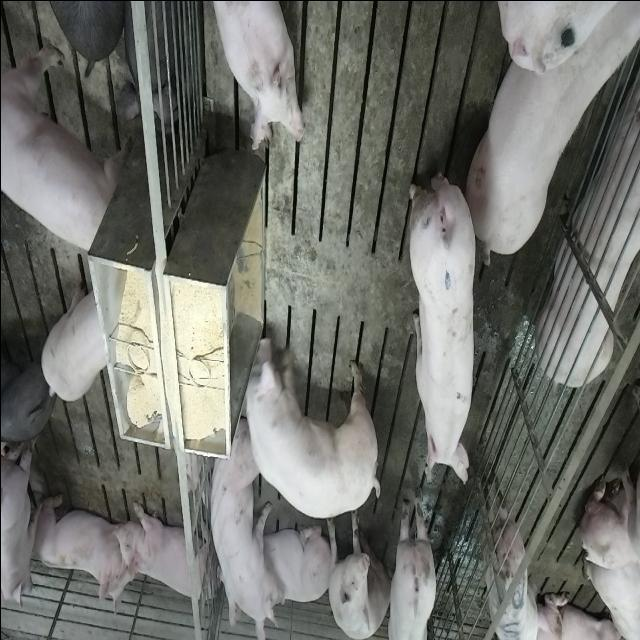Sitting: (203, 422, 280, 640), (324, 518, 389, 640)
Standing: (2, 34, 122, 256), (240, 334, 380, 522), (407, 161, 478, 485), (478, 479, 542, 638), (40, 280, 109, 403), (385, 483, 438, 638), (0, 322, 52, 448), (0, 438, 33, 614)
Sternal_lying: (538, 58, 640, 392), (206, 0, 305, 151), (27, 489, 129, 606), (116, 500, 215, 610), (252, 520, 330, 618)
